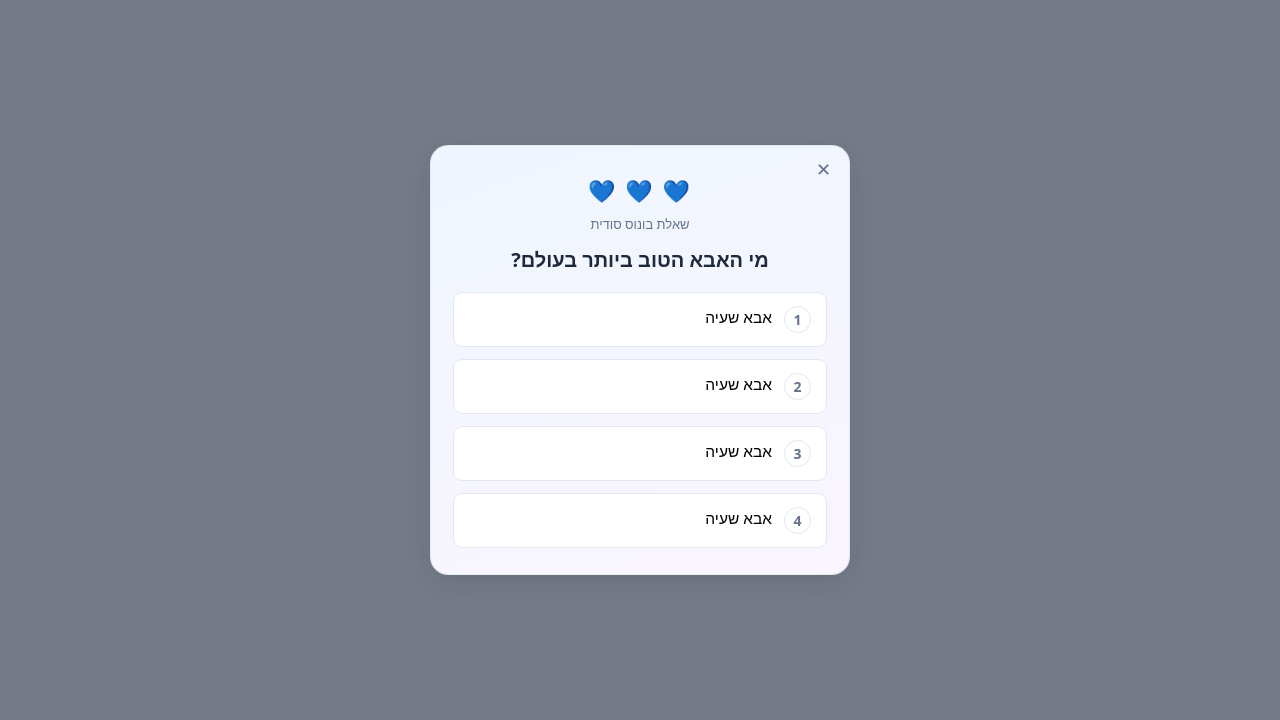
hidden surprise › asks who the best dad is, with every answer correct
expect the text "מי האבא הטוב ביותר בעולם?" is shown: met, box 511,246 -> 769,273
Click the 1st text "אבא שעיה": (739, 317) 705,306 -> 772,328
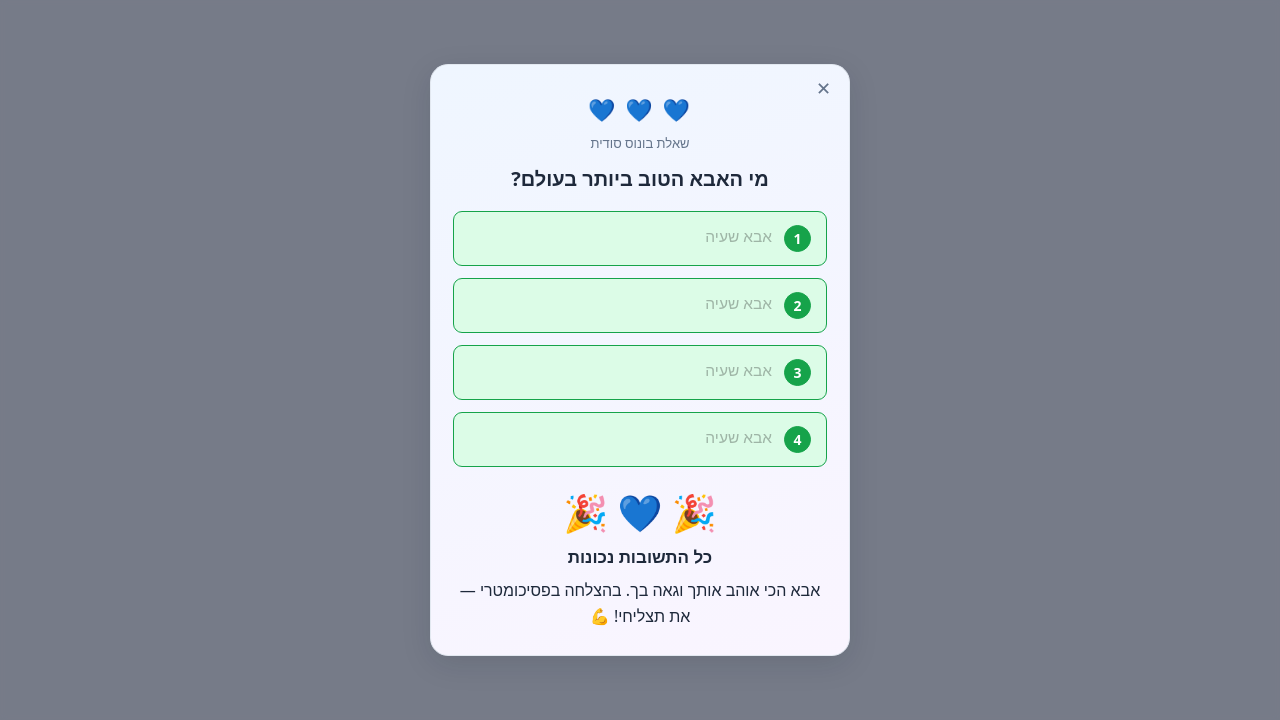
expect the text "כל התשובות נכונות" is shown: met, box 568,545 -> 712,568
